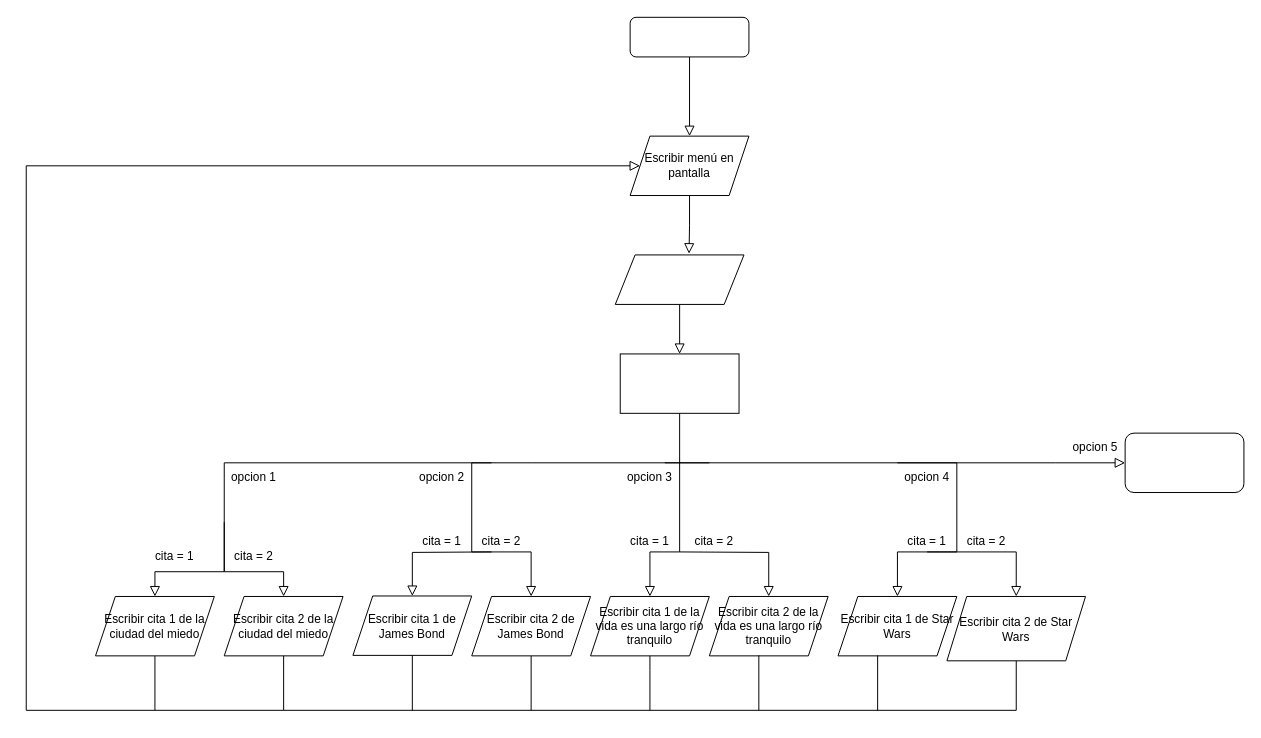
Image size: 1261x738. Some labels were removed from this diagram. The centre of each missing label's shape, as x and y in pixels:
"Almacenar el valor introducido en la variable opción" belongs at point 679,279.
"Fin" belongs at point 1184,462.
"Generar número aleatorio y guardarlo en la variable cita" belongs at point 679,383.
"Inicio" belongs at point 689,36.
